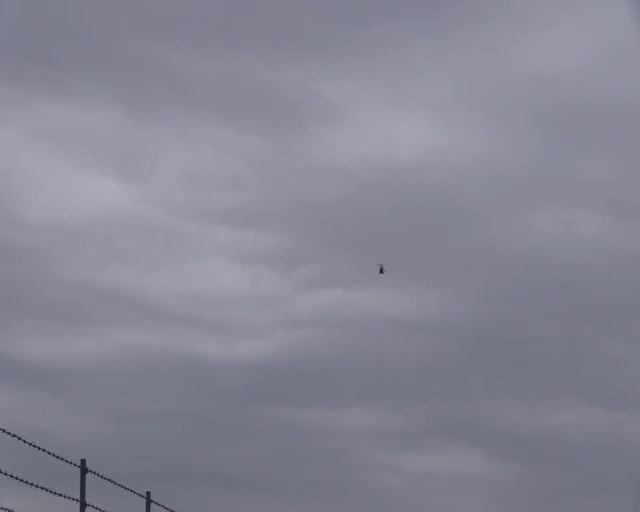HELICOPTER: (374, 263, 385, 275)
